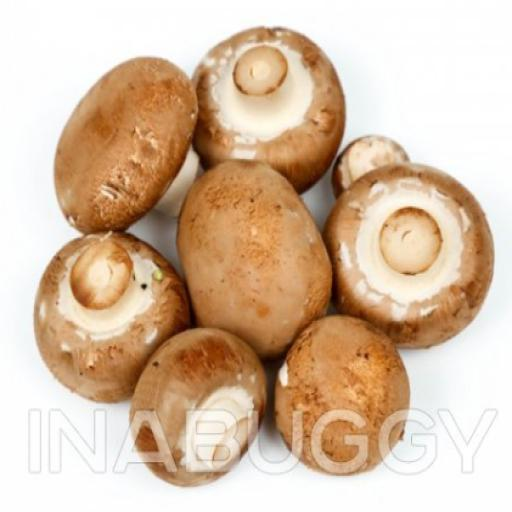mushroom: (326, 153, 499, 361), (41, 43, 201, 232), (192, 18, 345, 191), (31, 233, 179, 402), (139, 321, 271, 476)
